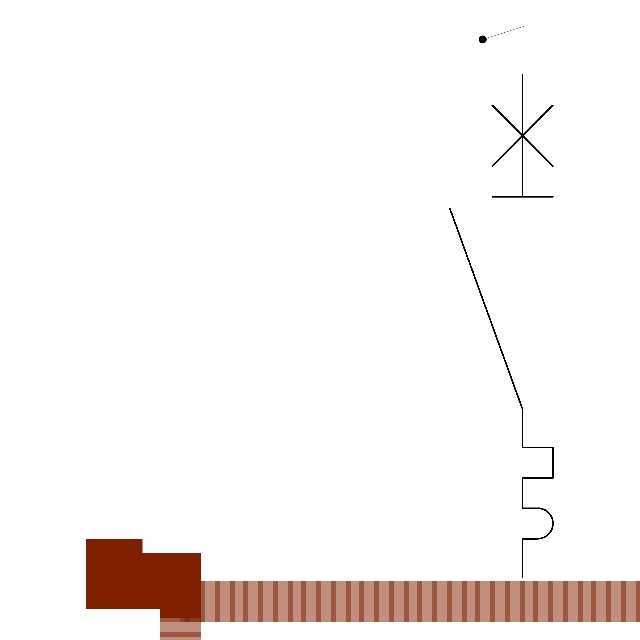interruptor_termomagnetico: (437, 61, 566, 589)
